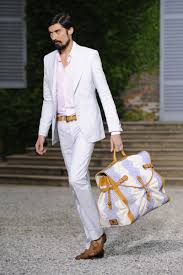F_belt: (53, 111, 89, 123)
